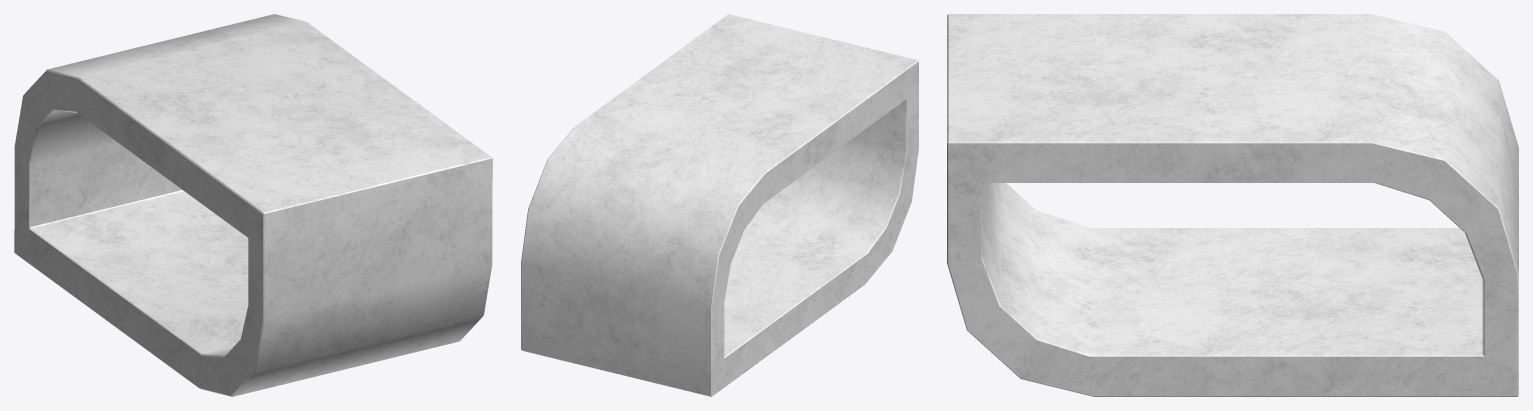
The model's file is PolkaFF.fbx.
The picture shows the model from 3 angles, left to right: view 1: azimuth 30°, elevation 25°; view 2: azimuth 150°, elevation 25°; view 3: azimuth 270°, elevation 25°; orthographic projection. The views are drawn at different scales.
Parts seen in each view (by area): view 1: Cube; view 2: Cube; view 3: Cube.
Part boxes in pixels (x1,y1,x2,y2): Cube: [14, 14, 492, 396]; Cube: [521, 14, 918, 396]; Cube: [947, 14, 1518, 396].
Bounding box in the file's own units: 200 × 186 × 376.
Materials: 1 (1 with a texture image).
